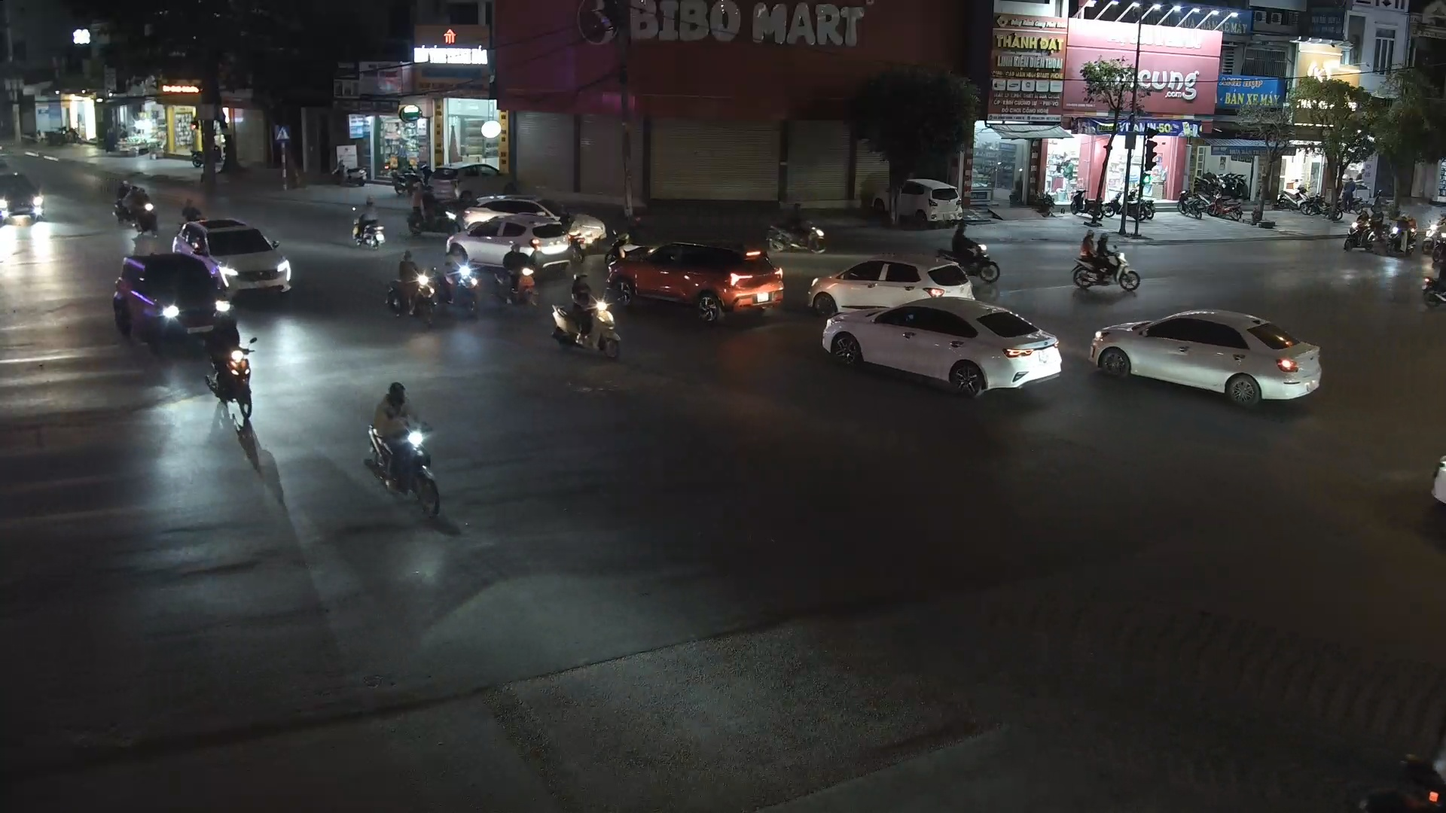car: (818, 293, 1063, 396), (1086, 307, 1324, 406), (608, 239, 786, 325), (111, 248, 236, 353), (447, 192, 601, 276), (179, 215, 295, 302), (808, 252, 943, 321), (0, 171, 44, 224)
motorbike: (362, 380, 446, 520), (549, 273, 624, 359), (927, 221, 1002, 291), (1070, 228, 1142, 294), (204, 308, 259, 392), (384, 245, 441, 325), (350, 195, 386, 250), (113, 181, 152, 227), (1421, 254, 1445, 311)
